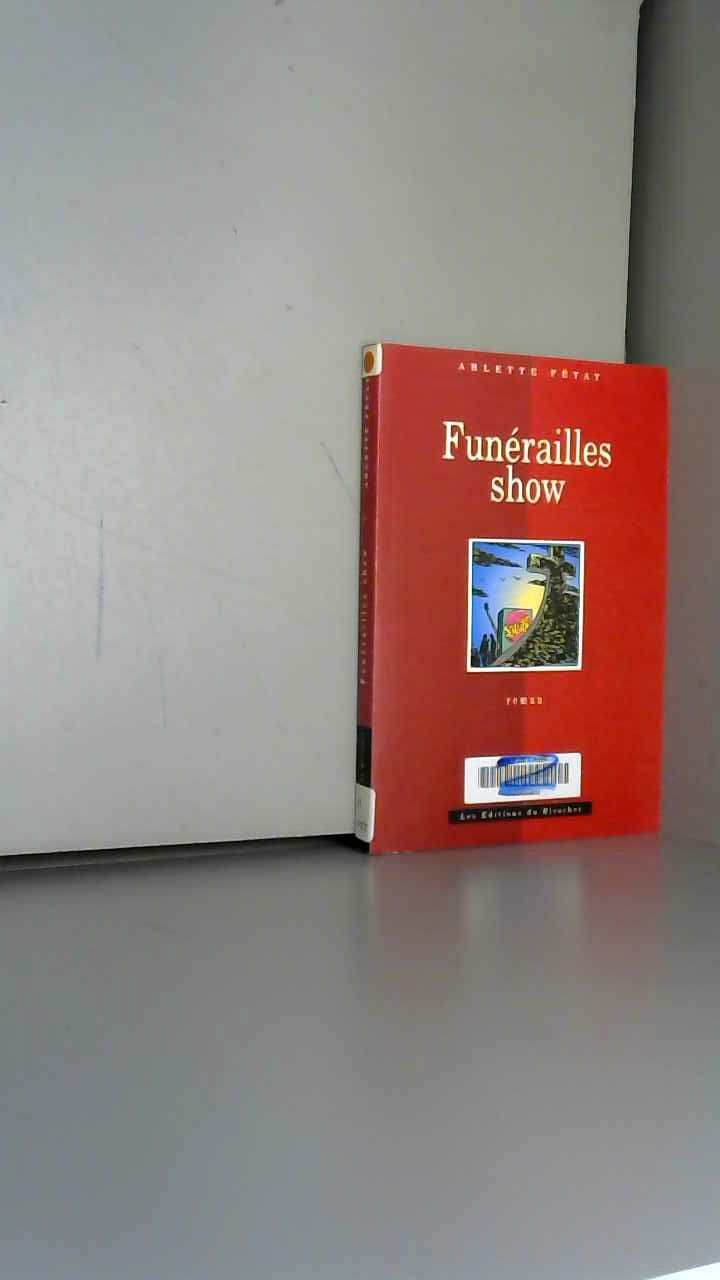book: (330, 310, 720, 898)
